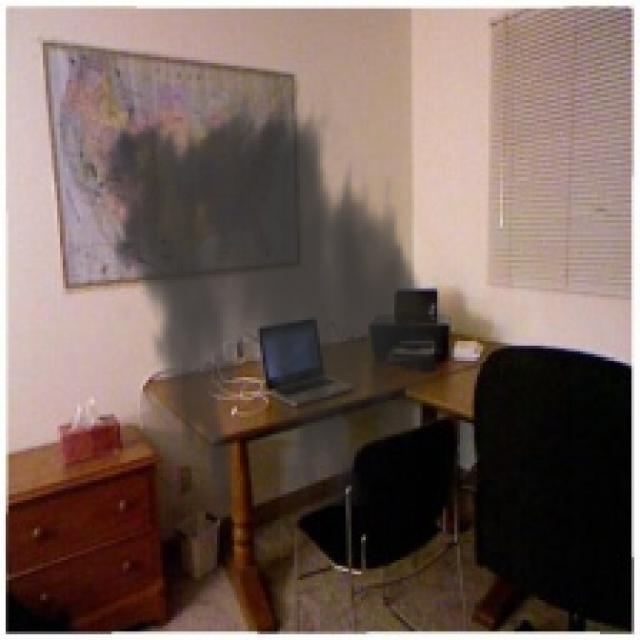Smoke: (86, 86, 460, 506)
